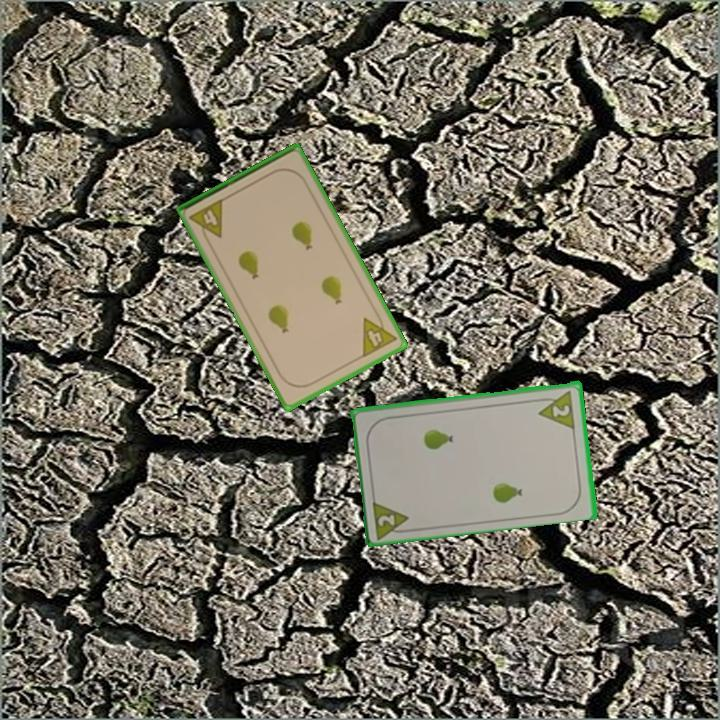2p: (369, 496, 414, 540), (534, 386, 578, 430)
4p: (359, 308, 400, 360), (186, 195, 227, 246)
